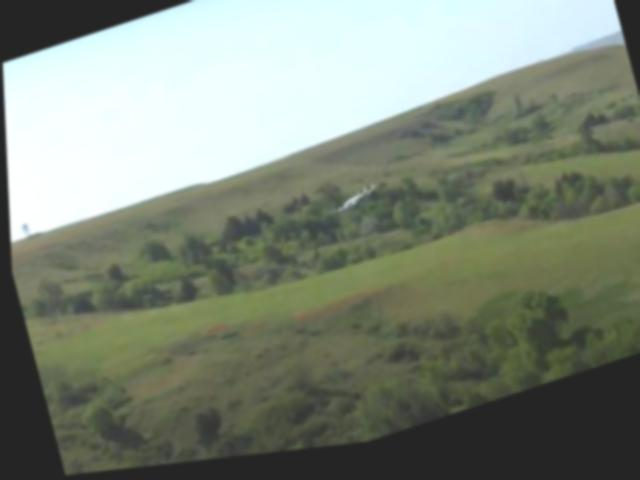iha: (322, 187, 380, 225)
